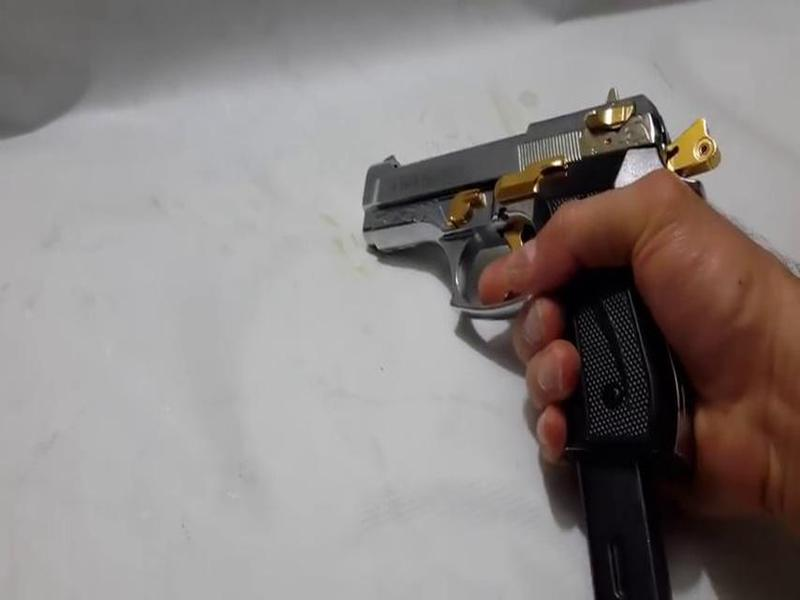Pistola: (308, 73, 712, 449)
